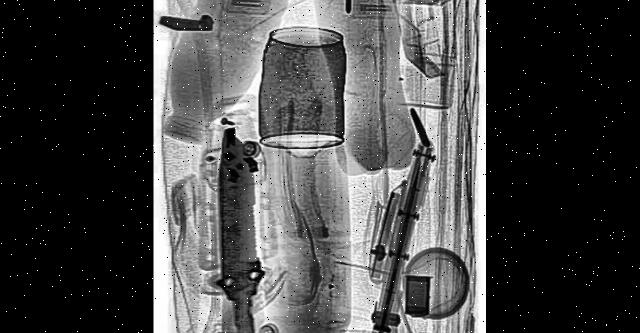Knife: (334, 145, 433, 333), (203, 116, 271, 333)
